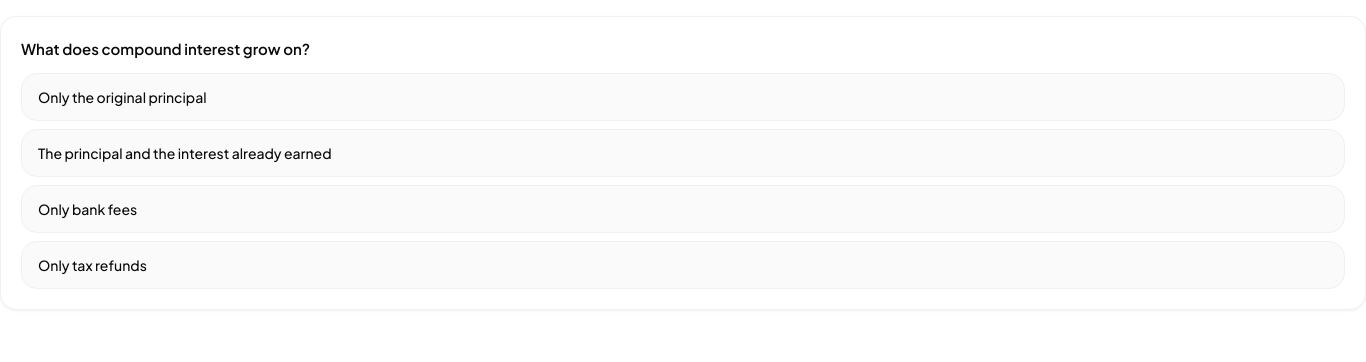
Test: QuizQuestion › shows the explanation and records an incorrect answer
Click the button "Only the original principal". click: (122,97)
box: x1=21 y1=73 x2=1345 y2=121
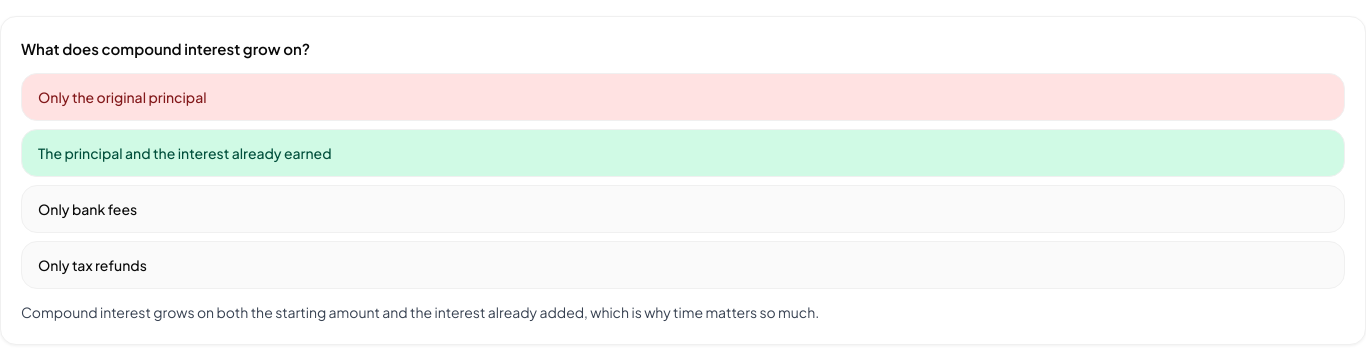
Result: the text "Compound interest grows on both the starting amount and the interest already added, which is why time matters so much." is shown at x1=21 y1=303 x2=819 y2=321
